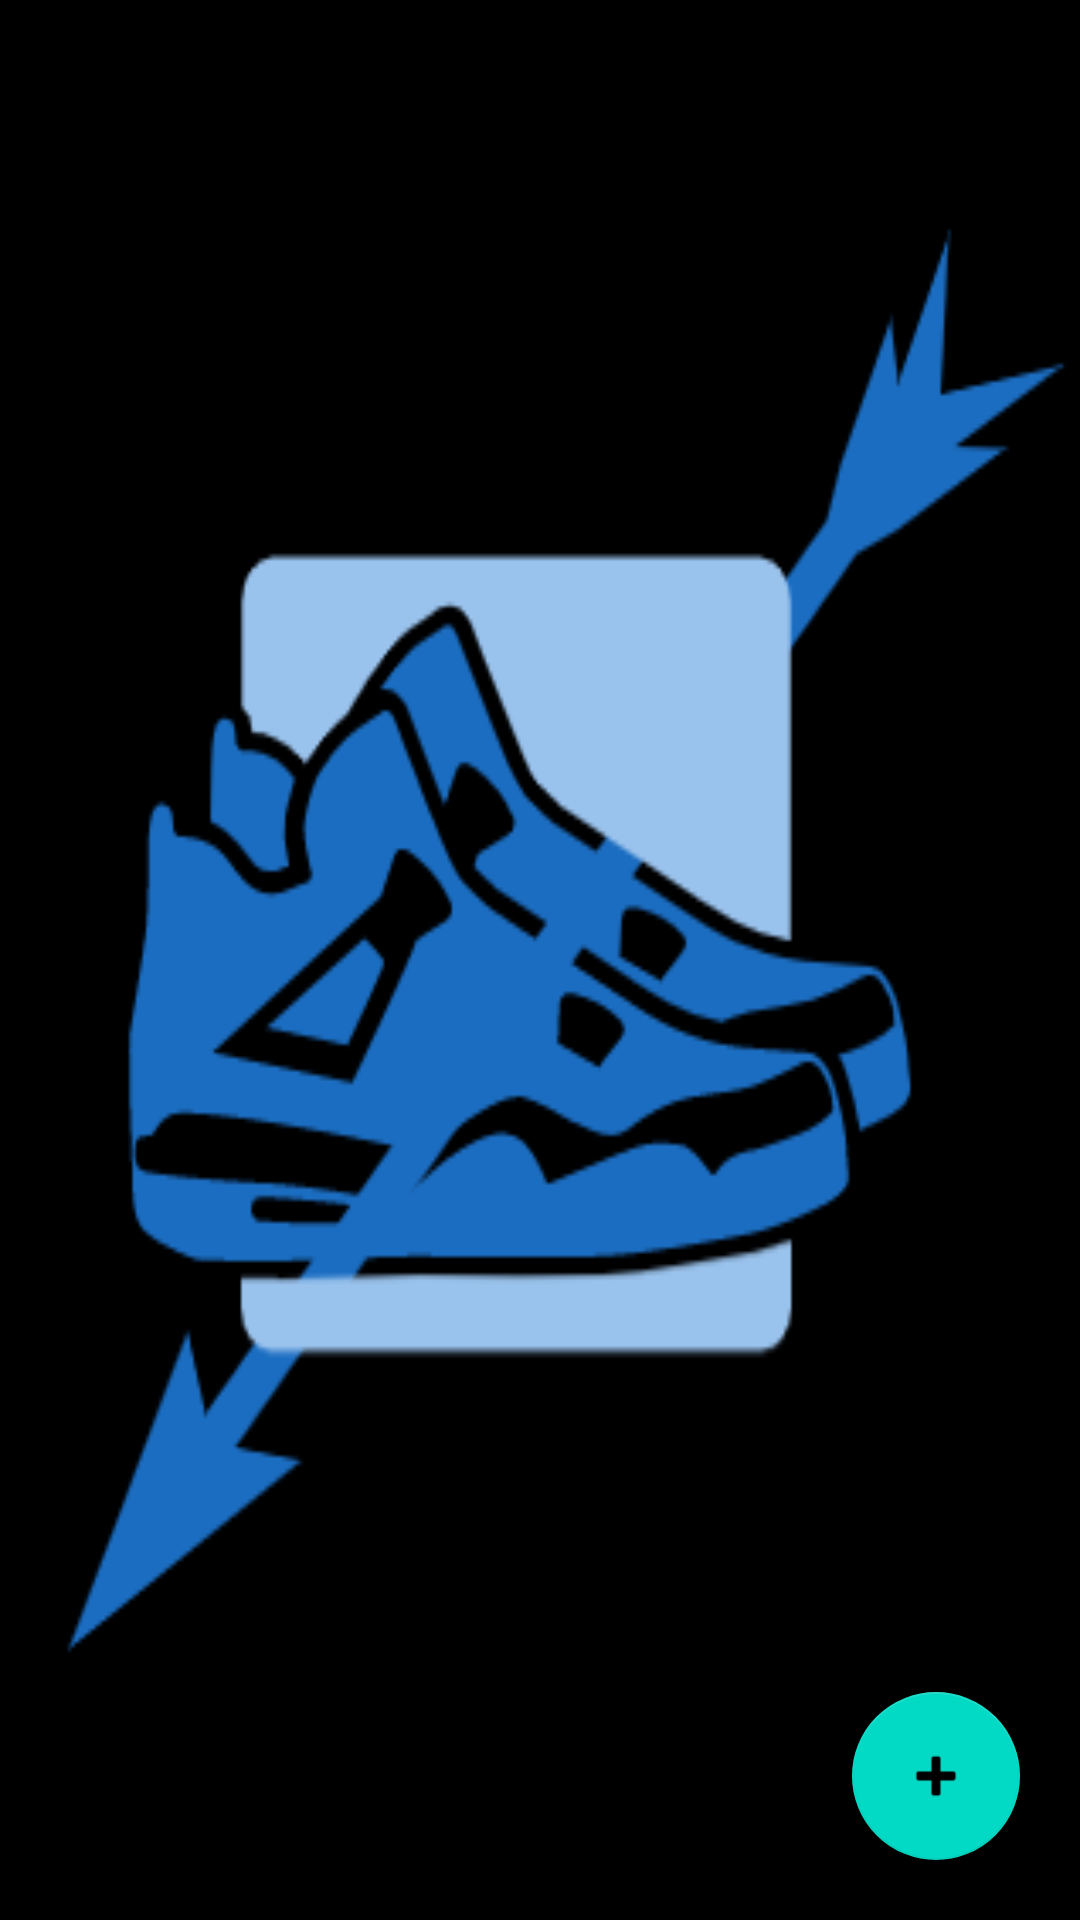

Icon click points for this 1080px×1920px phone screenshot, format point (x, y):
Agregar nuevo calzado: point (936, 1776)
